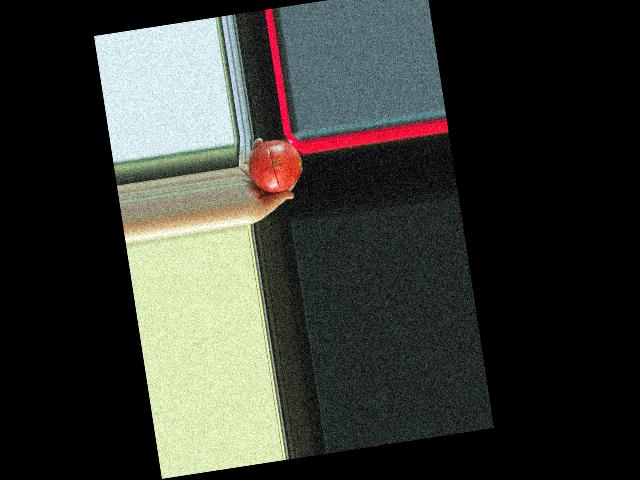tomato: (244, 135, 305, 196)
